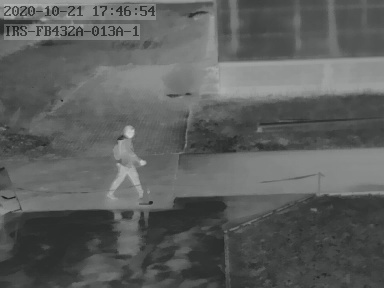person: (111, 124, 149, 195)
